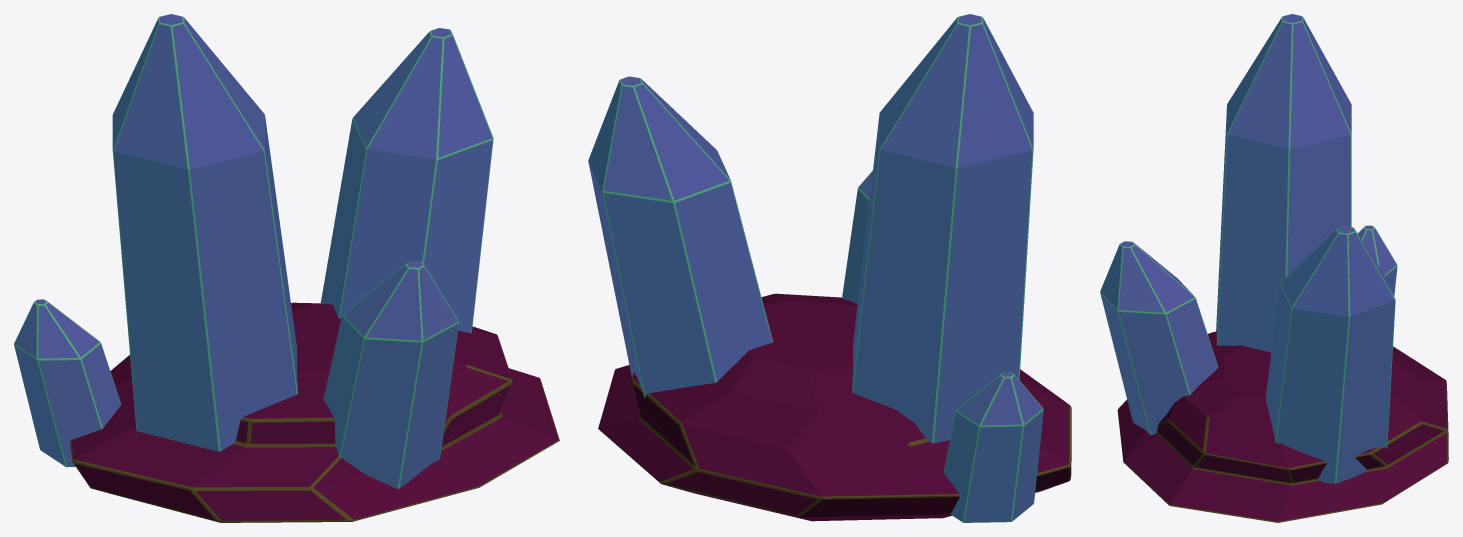
File: SM_RV_CrystalCluster.fbx
3 renders of one model, left to right at view 1: azimuth 30°, elevation 25°; view 2: azimuth 150°, elevation 25°; view 3: azimuth 270°, elevation 25°, orthographic. The views are drawn at different scales.
Parts seen in each view (by area): view 1: SM_RV_CrystalCluster; view 2: SM_RV_CrystalCluster; view 3: SM_RV_CrystalCluster.
Boxes of the visible parts, left/top/right/bottom form: SM_RV_CrystalCluster: left=14, top=14, right=559, bottom=522; SM_RV_CrystalCluster: left=588, top=14, right=1071, bottom=522; SM_RV_CrystalCluster: left=1100, top=14, right=1448, bottom=522.
Size of what is drawn, in the model's own units: 150 by 189 by 177.
